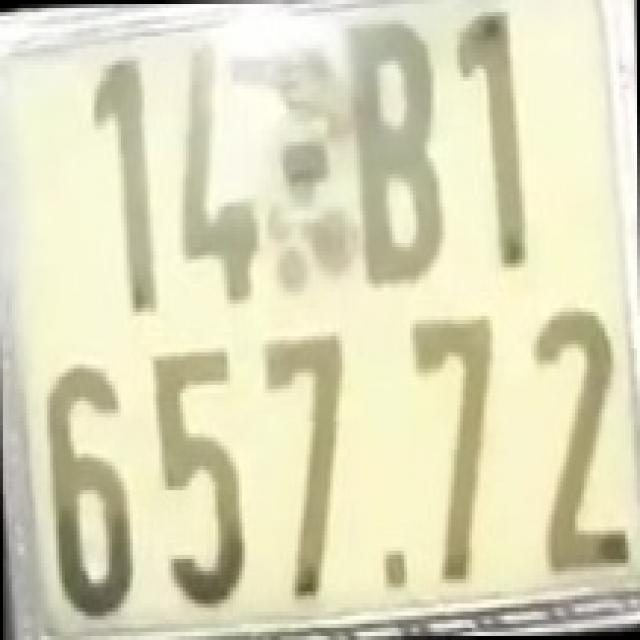1: (82, 48, 166, 316), (454, 8, 540, 267)
2: (525, 300, 634, 576)
4: (174, 44, 266, 308)
5: (150, 340, 251, 608)
6: (41, 356, 136, 620)
7: (404, 307, 498, 584), (262, 328, 348, 600)
B: (342, 16, 448, 288)
